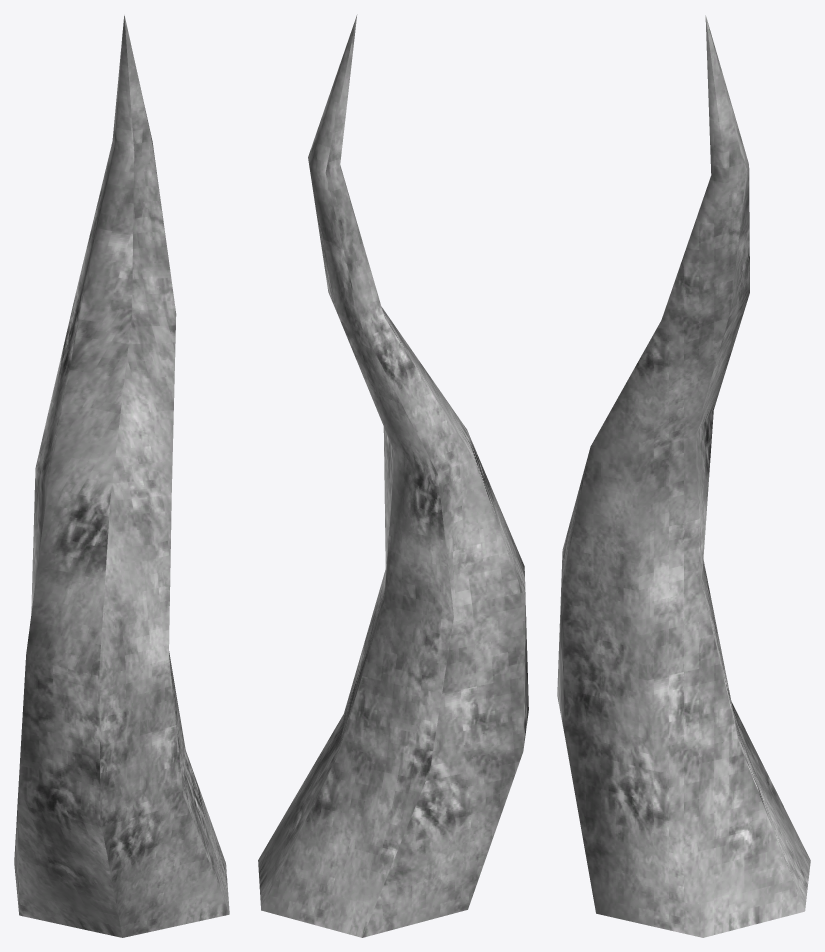
The model's file is Stalactic_01.fbx.
3 views of the same model, side by side, from view 1: azimuth 30°, elevation 25°; view 2: azimuth 150°, elevation 25°; view 3: azimuth 270°, elevation 25° (orthographic).
Parts seen in each view (by area): view 1: Cone001; view 2: Cone001; view 3: Cone001.
Part boxes in pixels (x1=…): Cone001: x1=14, y1=15, x2=229, y2=937; Cone001: x1=258, y1=14, x2=528, y2=937; Cone001: x1=557, y1=15, x2=810, y2=937.
Bounding box in the file's own units: 0.568 × 2 × 0.5254.
Materials: 1 (1 with a texture image).
